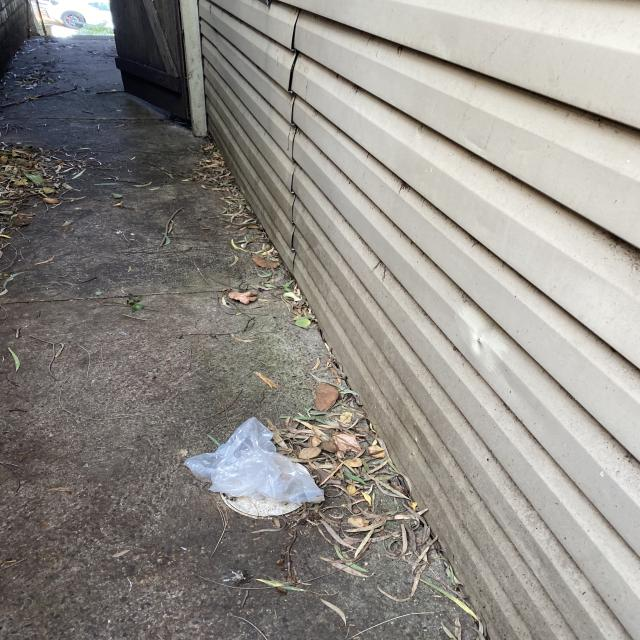bag: (184, 417, 325, 505)
